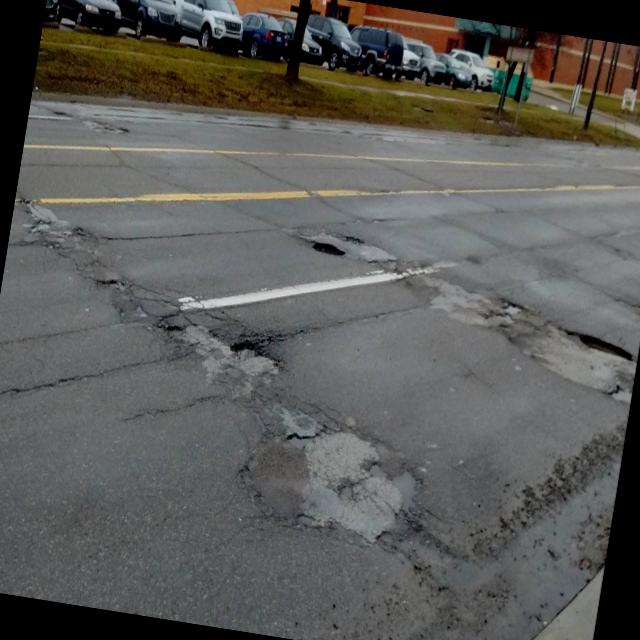bad-road: (561, 327, 640, 360), (496, 293, 525, 333), (228, 335, 266, 362), (310, 240, 346, 258), (346, 233, 366, 247)
